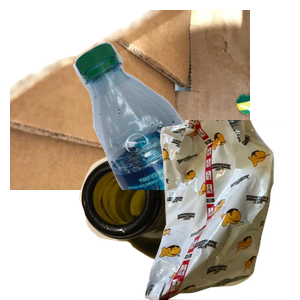cardboard: (10, 10, 250, 190)
glass: (77, 147, 295, 300)
plastic: (71, 39, 300, 219)
trash: (127, 120, 300, 300)
